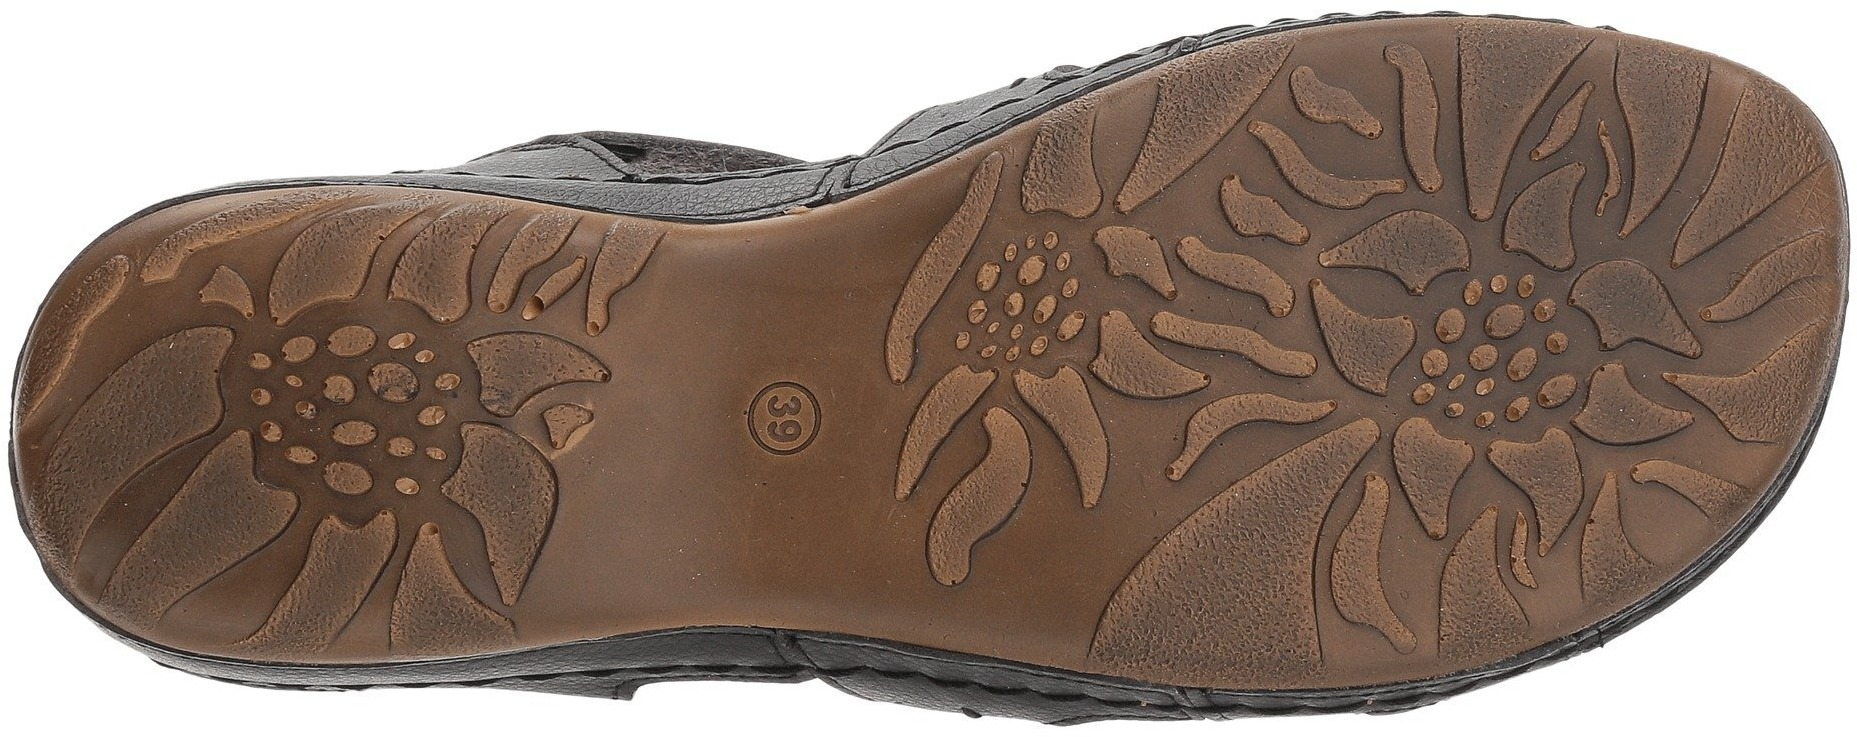circle: (246, 307, 462, 507), (1408, 269, 1580, 432), (947, 227, 1099, 368), (739, 374, 829, 456)
other: (581, 450, 739, 601), (676, 230, 822, 374), (751, 463, 886, 592), (1168, 530, 1296, 654), (130, 347, 218, 429)
quad: (1127, 239, 1361, 472), (1257, 38, 1448, 217)
text: (756, 391, 812, 444)
triangle: (1580, 162, 1800, 373), (1394, 431, 1576, 605)
